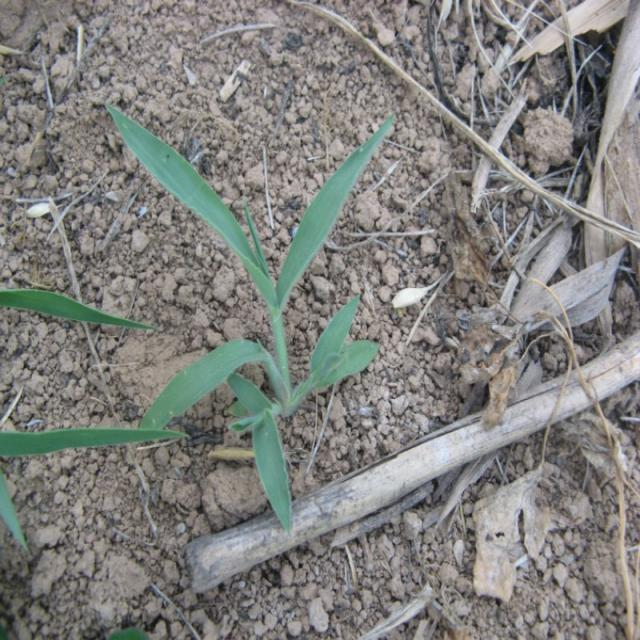bg: (101, 90, 393, 528)
